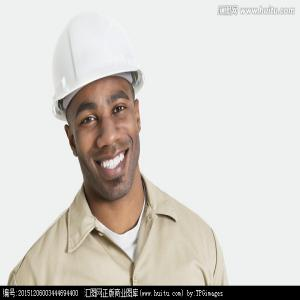white: (50, 12, 148, 205)
